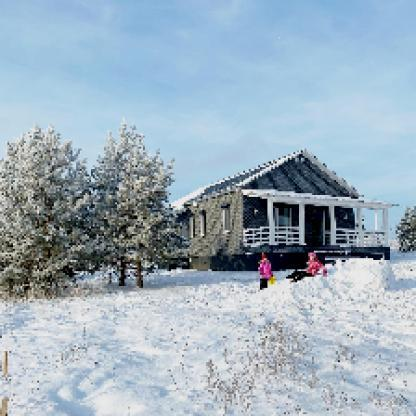child: (286, 253, 329, 284), (257, 253, 275, 290)
